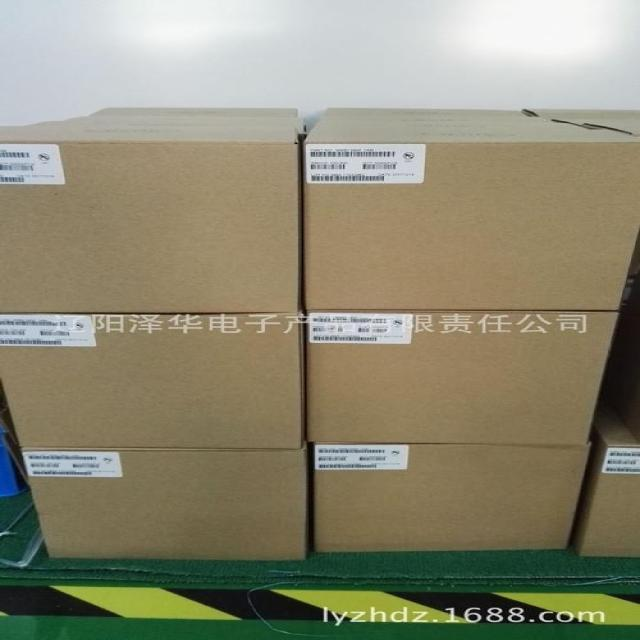box: (303, 118, 639, 311), (0, 117, 300, 314), (304, 308, 617, 445), (0, 314, 304, 449), (17, 448, 309, 562), (310, 444, 592, 553), (562, 366, 638, 556), (528, 110, 639, 134), (90, 107, 296, 117), (325, 109, 541, 118)
